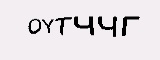Г: (120, 15, 141, 39)
О: (28, 17, 41, 36)
Т: (54, 15, 72, 37)
Ч: (73, 14, 95, 37), (97, 15, 118, 38)
Ү: (43, 17, 54, 34)
